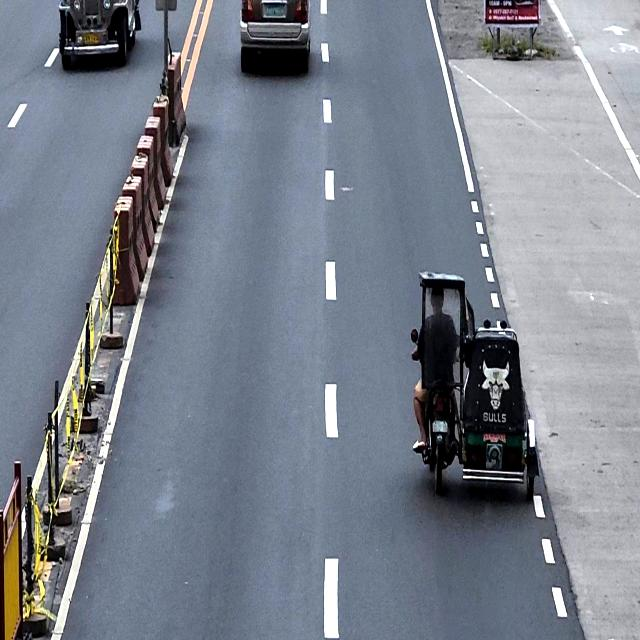Car: (57, 0, 141, 69), (239, 0, 311, 72)
License-Plate: (263, 4, 286, 17), (432, 418, 448, 433)
Tricycle: (409, 270, 538, 500)
